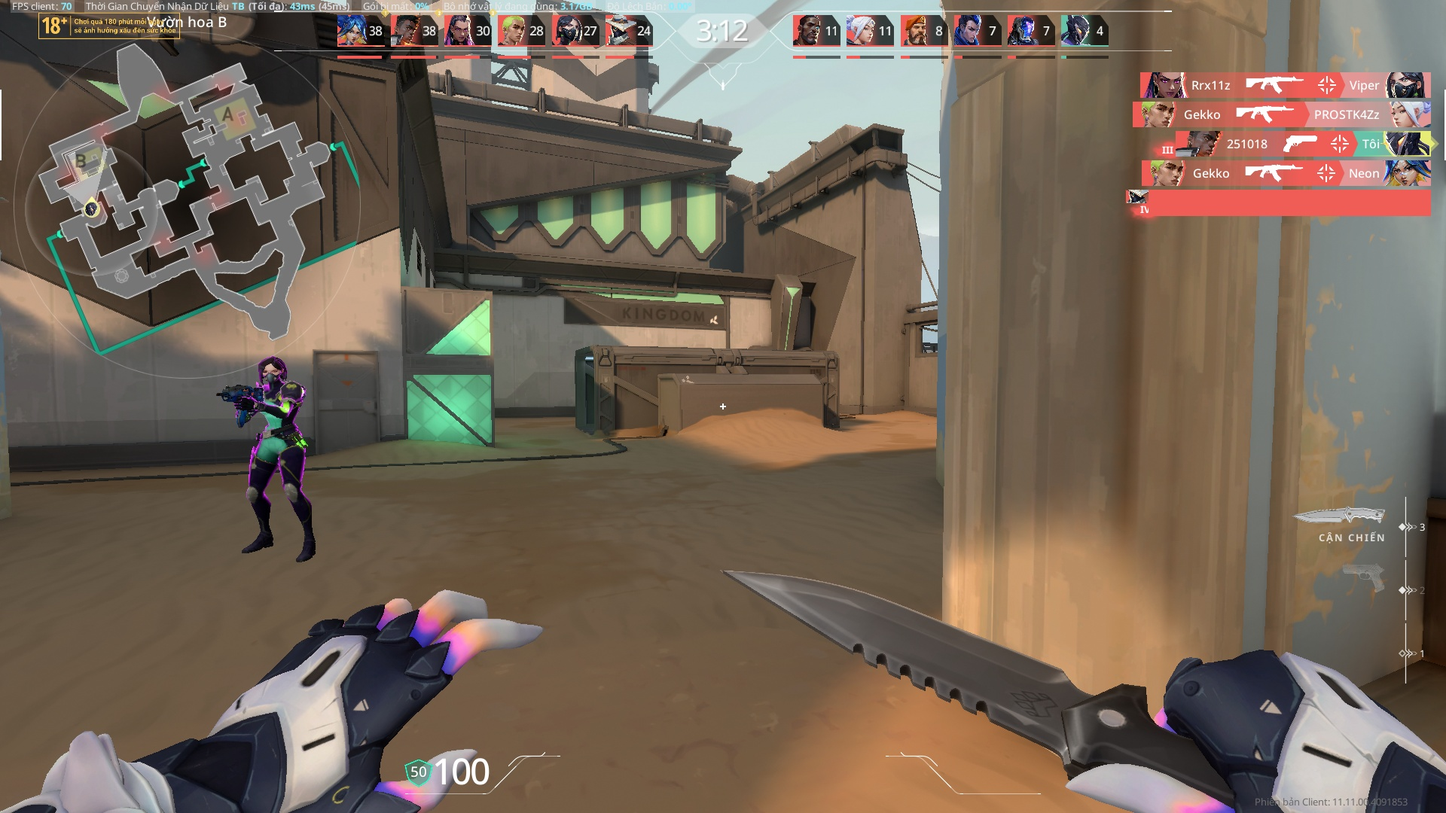body: (243, 380, 306, 458)
head: (255, 357, 287, 388)
